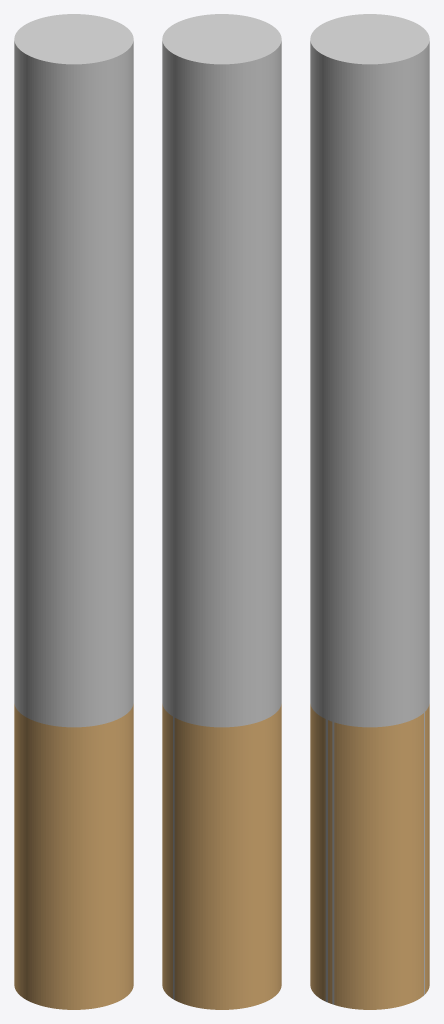
The model's file is cigarette2.glb.
3 views of the same model, side by side, from view 1: azimuth 90°, elevation 25°; view 2: azimuth 150°, elevation 25°; view 3: azimuth 270°, elevation 25° (orthographic).
Parts seen in each view (by area): view 1: Cylinder; view 2: Cylinder; view 3: Cylinder.
Boxes of the visible parts, box(x1,y1,x2,y2) form: Cylinder: box(14, 14, 133, 1009); Cylinder: box(162, 14, 281, 1009); Cylinder: box(310, 14, 429, 1009).
Bounding box in the file's own units: 0.8 × 7 × 0.8.
